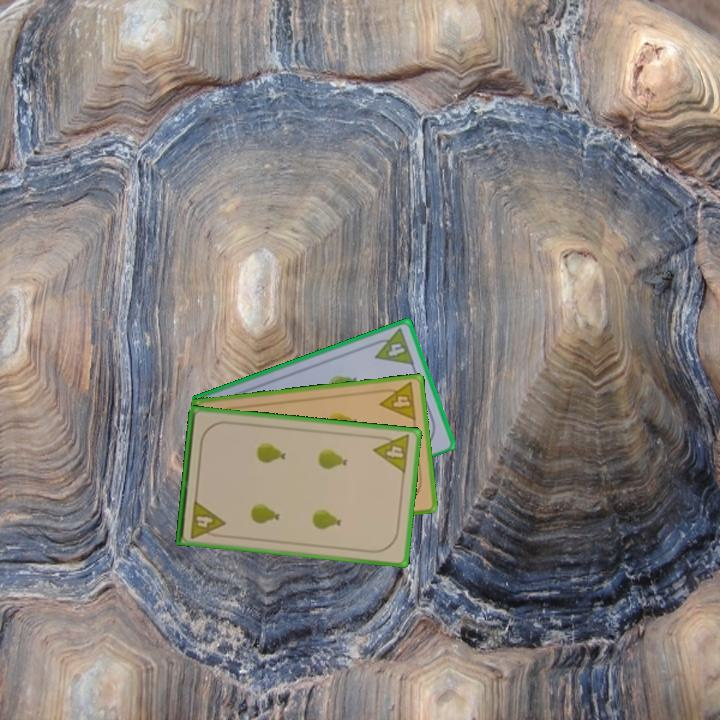4p: (367, 325, 417, 368), (375, 379, 419, 423), (370, 431, 413, 476), (187, 496, 228, 541)
